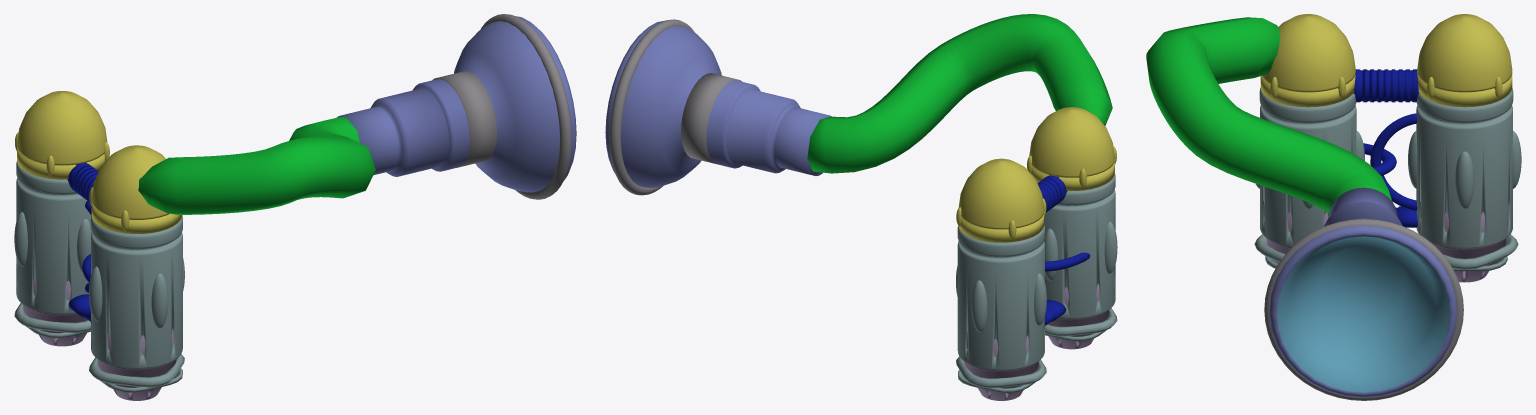
The model's file is jetpack.fbx.
The picture shows the model from 3 angles, left to right: view 1: azimuth 30°, elevation 25°; view 2: azimuth 150°, elevation 25°; view 3: azimuth 270°, elevation 25°; orthographic projection. The views are drawn at different scales.
Parts seen in each view (by area): view 1: Torus; view 2: Torus; view 3: Torus.
Part boxes in pixels (left/top/right/bottom): Torus: left=14, top=14, right=576, bottom=400; Torus: left=605, top=14, right=1117, bottom=400; Torus: left=1146, top=14, right=1521, bottom=400.
Size of the model in its own units: 285 by 157 by 188.
